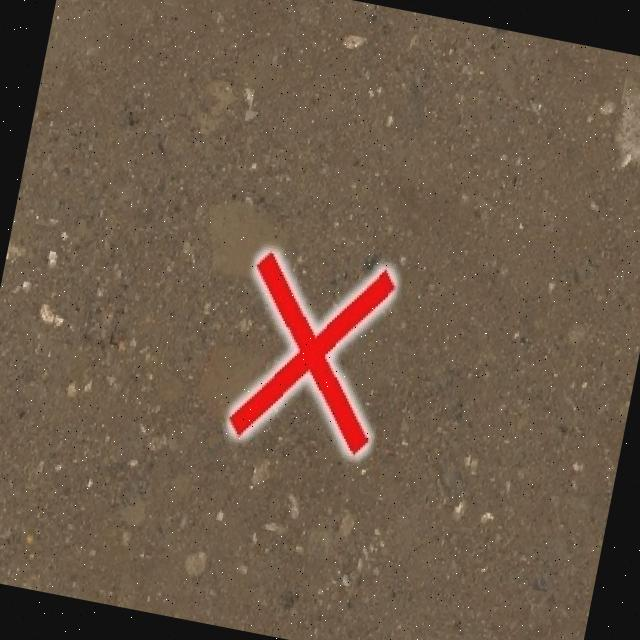x_marker: (224, 245, 400, 458)
